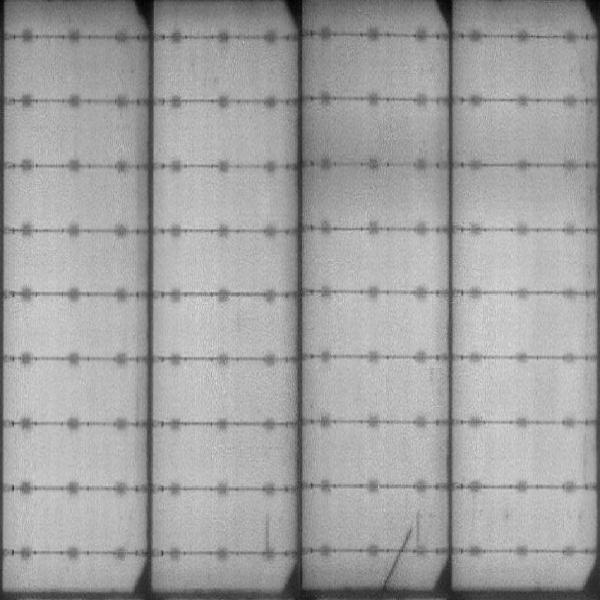scratch: (385, 527, 414, 586), (263, 516, 278, 556)
